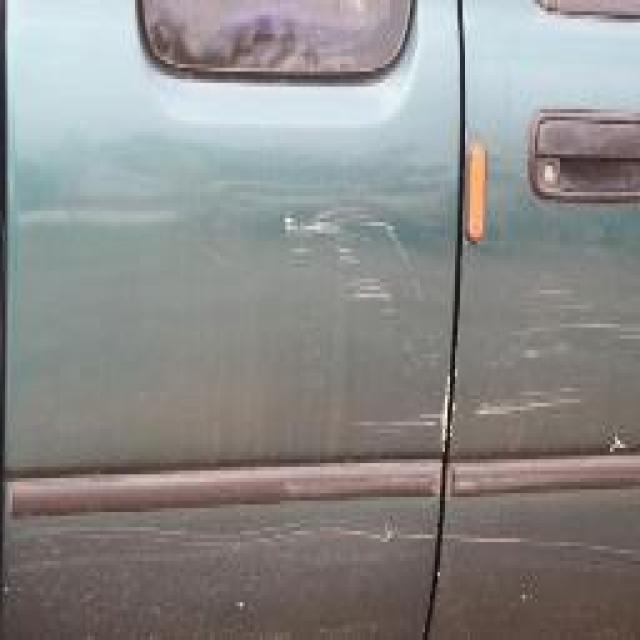Door: (12, 87, 448, 640), (468, 90, 640, 640)
